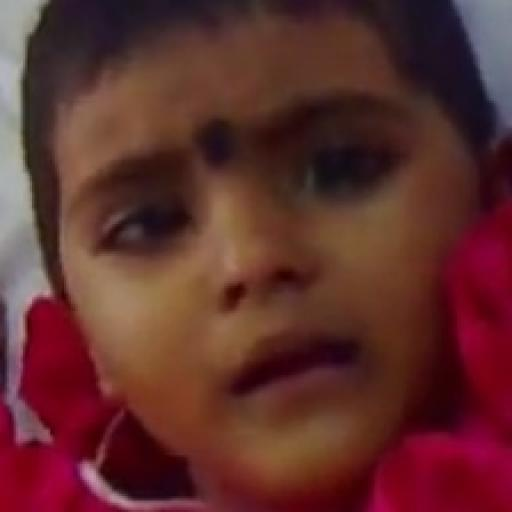Autism: (46, 15, 506, 508)
